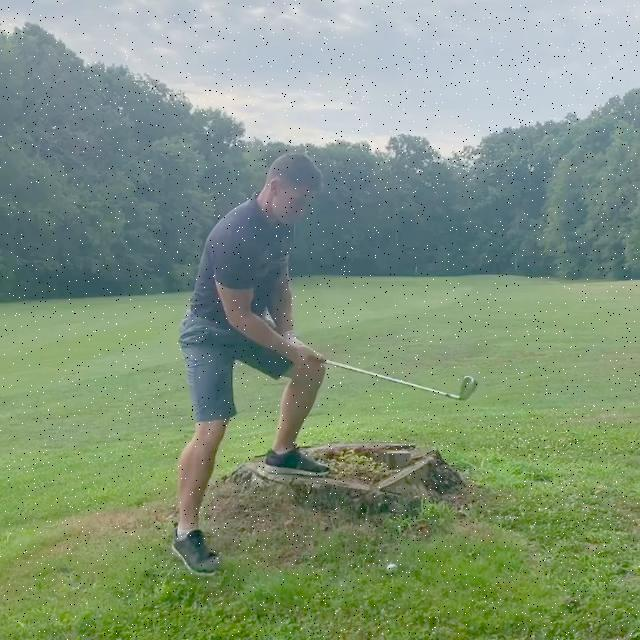ClubHead: (458, 376, 478, 401)
GolfBall: (387, 564, 397, 572)
